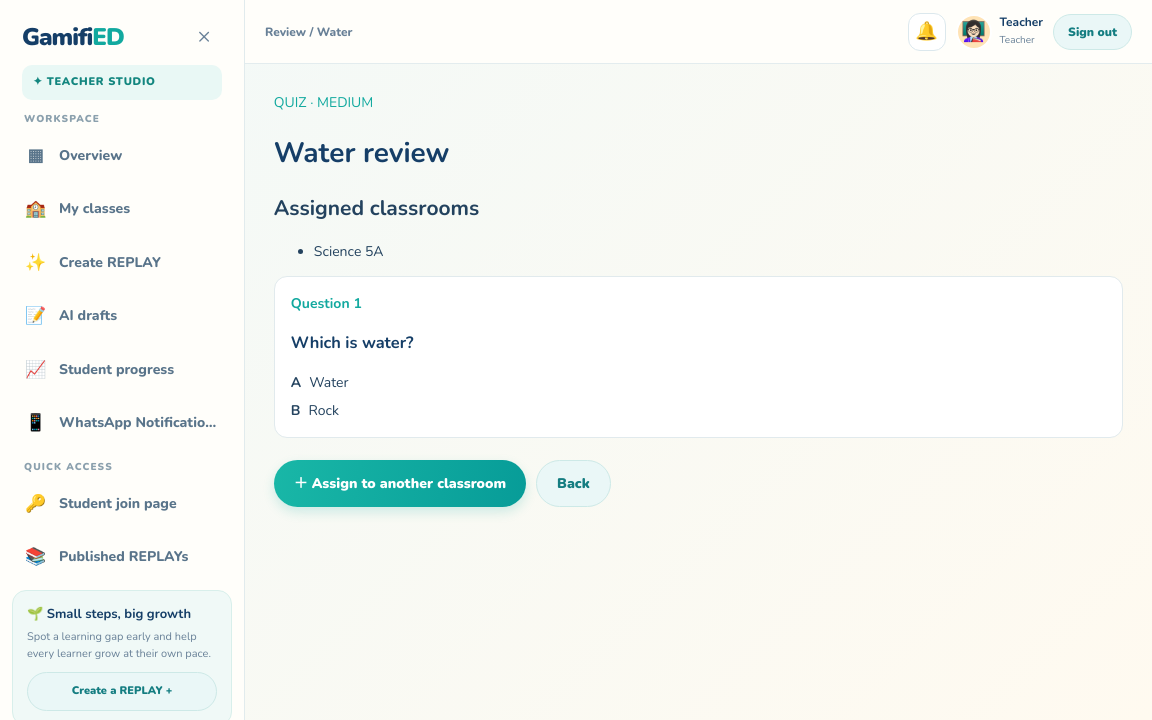
published review can reopen the simplified publish modal with only classrooms
Step 1. Click the button "＋ Assign to another classroom" → [400, 483], box left=274, top=460, right=526, bottom=507
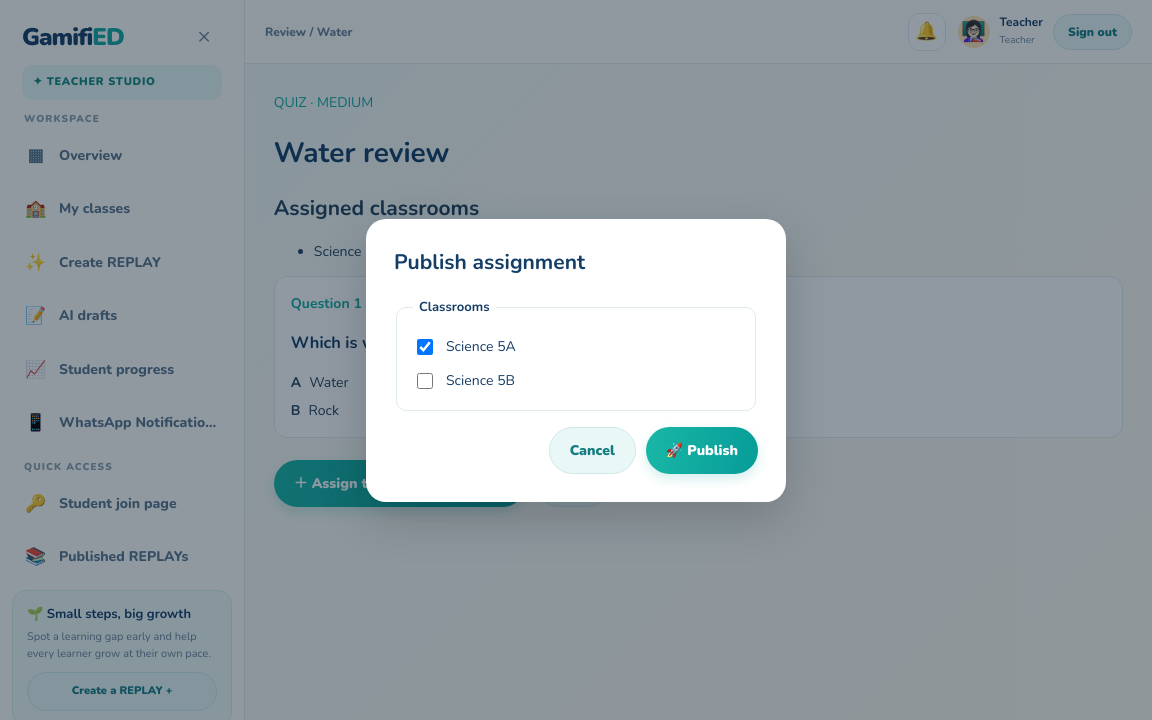
Check: the checkbox labelled "Science 5A" is checked, box left=417, top=338, right=433, bottom=354
Check: the checkbox labelled "Science 5B" is not checked, box left=417, top=372, right=433, bottom=388
